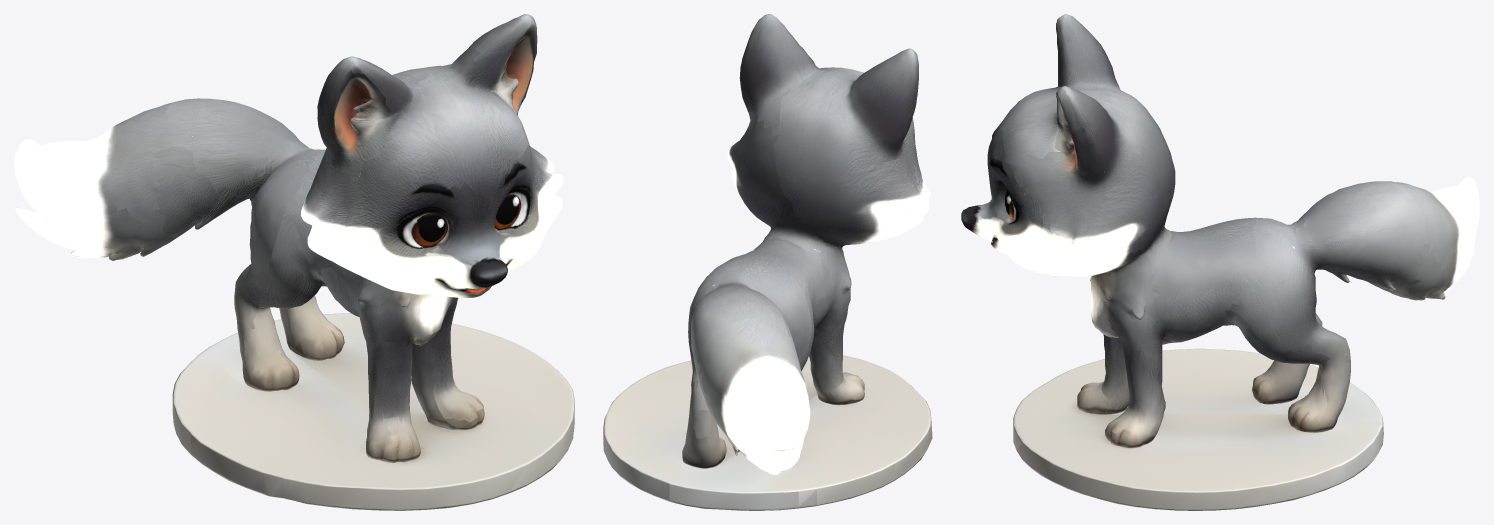
The model's file is wolfv01.glb.
3 views of the same model, side by side, from view 1: azimuth 30°, elevation 25°; view 2: azimuth 150°, elevation 25°; view 3: azimuth 270°, elevation 25° (orthographic). The views are drawn at different scales.
Visible parts, largest first — view 1: mesh_node; view 2: mesh_node; view 3: mesh_node.
Boxes of the visible parts, x1,y1,x2,y2 form: mesh_node: (14, 14, 574, 510); mesh_node: (603, 14, 932, 510); mesh_node: (961, 14, 1479, 510).
Bounding box in the file's own units: 1.36 × 1.55 × 1.91.
Materials: 1 (1 with a texture image).
